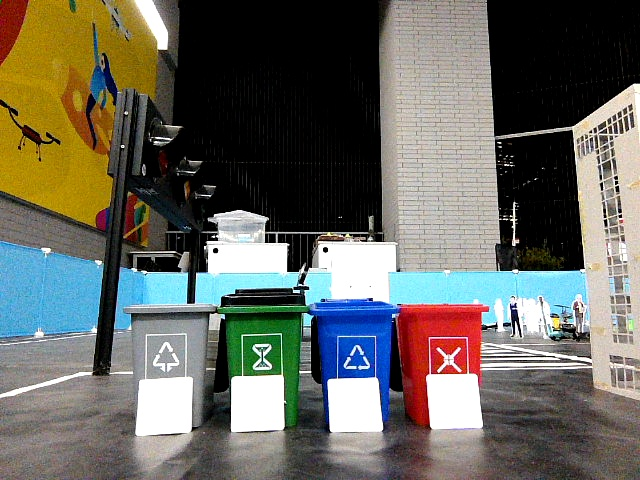blue_open: (316, 298, 388, 374)
green_close: (226, 289, 299, 373)
grey_open: (132, 303, 208, 374)
red_open: (404, 304, 478, 373)
